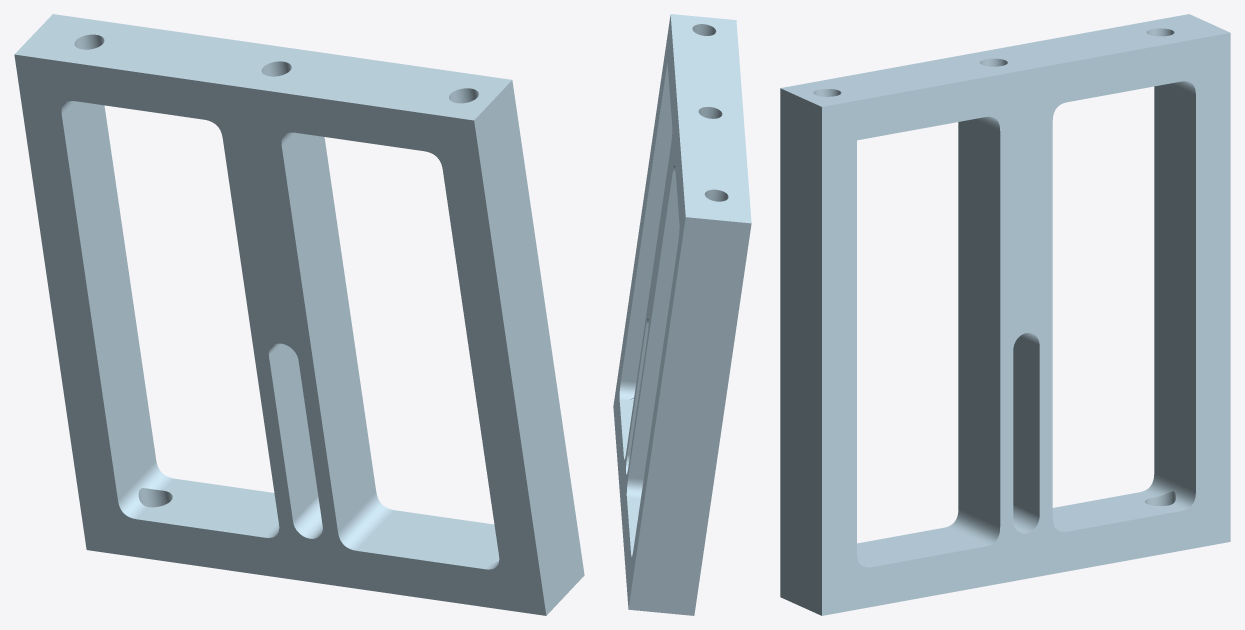
The picture shows the model from 3 angles, left to right: view 1: azimuth 30°, elevation 25°; view 2: azimuth 150°, elevation 25°; view 3: azimuth 270°, elevation 25°; orthographic projection. The views are drawn at different scales.
Visible parts, largest first — view 1: mesh4450, mesh4436, mesh4433, mesh4448, mesh4426, mesh4441, mesh4424, mesh4451, mesh4449, mesh4425, mesh4454; view 2: mesh4435, mesh4433, mesh4452, mesh4439, mesh4428, mesh4441, mesh4424, mesh4455, mesh4427, mesh4440, mesh4432, mesh4437 (+1 smaller); view 3: mesh4452, mesh4436, mesh4448, mesh4426, mesh4433, mesh4451, mesh4441, mesh4424, mesh4449, mesh4425.
Part boxes in pixels (<box>): mesh4450: <box>14,54,546,615</box>; mesh4436: <box>474,80,584,615</box>; mesh4433: <box>14,14,511,120</box>; mesh4448: <box>282,132,376,531</box>; mesh4426: <box>62,101,155,499</box>; mesh4441: <box>357,510,499,568</box>; mesh4424: <box>137,479,278,537</box>; mesh4451: <box>269,343,318,521</box>; mesh4449: <box>338,492,394,550</box>; mesh4425: <box>118,460,174,519</box>; mesh4454: <box>293,496,322,538</box>; mesh4435: <box>628,217,751,615</box>; mesh4433: <box>670,14,751,223</box>; mesh4452: <box>613,15,685,609</box>; mesh4439: <box>621,63,672,381</box>; mesh4428: <box>628,172,679,478</box>; mesh4441: <box>619,398,633,456</box>; mesh4424: <box>627,498,640,554</box>; mesh4455: <box>627,323,648,455</box>; mesh4427: <box>626,477,643,499</box>; mesh4440: <box>619,380,636,401</box>; mesh4432: <box>704,189,728,201</box>; mesh4437: <box>692,24,716,35</box>; mesh4452: <box>822,33,1230,615</box>; mesh4436: <box>780,88,821,615</box>; mesh4448: <box>958,119,1000,526</box>; mesh4426: <box>1154,84,1195,491</box>; mesh4433: <box>780,14,1230,106</box>; mesh4451: <box>1013,336,1039,515</box>; mesh4441: <box>857,528,984,566</box>; mesh4424: <box>1052,492,1180,531</box>; mesh4449: <box>944,508,999,546</box>; mesh4425: <box>1140,473,1195,510</box>.
Size of the model in its own units: 0.0384 by 0.0552 by 0.0434.
